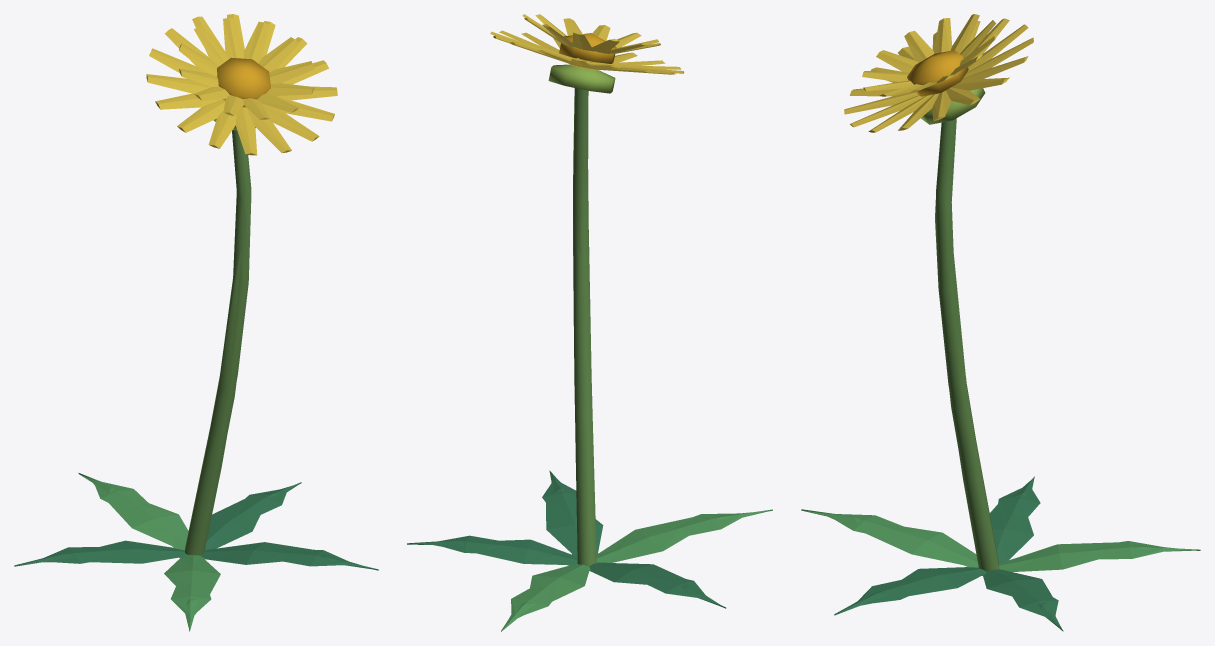
File: dandelion_a.glb
3 renders of one model, left to right at view 1: azimuth 30°, elevation 25°; view 2: azimuth 150°, elevation 25°; view 3: azimuth 270°, elevation 25°, orthographic. The views are drawn at different scales.
Parts seen in each view (by area): view 1: petal_yellow_nl, body__far, leaf_nl, stem; view 2: body__far, leaf_nl, petal_yellow_nl, stem; view 3: body__far, petal_yellow_nl, leaf_nl, stem.
Part boxes in pixels (x1=…): petal_yellow_nl: x1=146, y1=14, x2=337, y2=155; body__far: x1=43, y1=57, x2=366, y2=626; leaf_nl: x1=14, y1=473, x2=378, y2=631; stem: x1=195, y1=136, x2=251, y2=555; body__far: x1=433, y1=33, x2=762, y2=617; leaf_nl: x1=407, y1=78, x2=772, y2=631; petal_yellow_nl: x1=490, y1=14, x2=683, y2=74; stem: x1=573, y1=102, x2=592, y2=551; body__far: x1=828, y1=50, x2=1190, y2=626; petal_yellow_nl: x1=844, y1=14, x2=1033, y2=132; leaf_nl: x1=801, y1=476, x2=1200, y2=631; stem: x1=936, y1=118, x2=998, y2=575.
Bounding box in the file's own units: 8.93 × 14.99 × 9.74.
